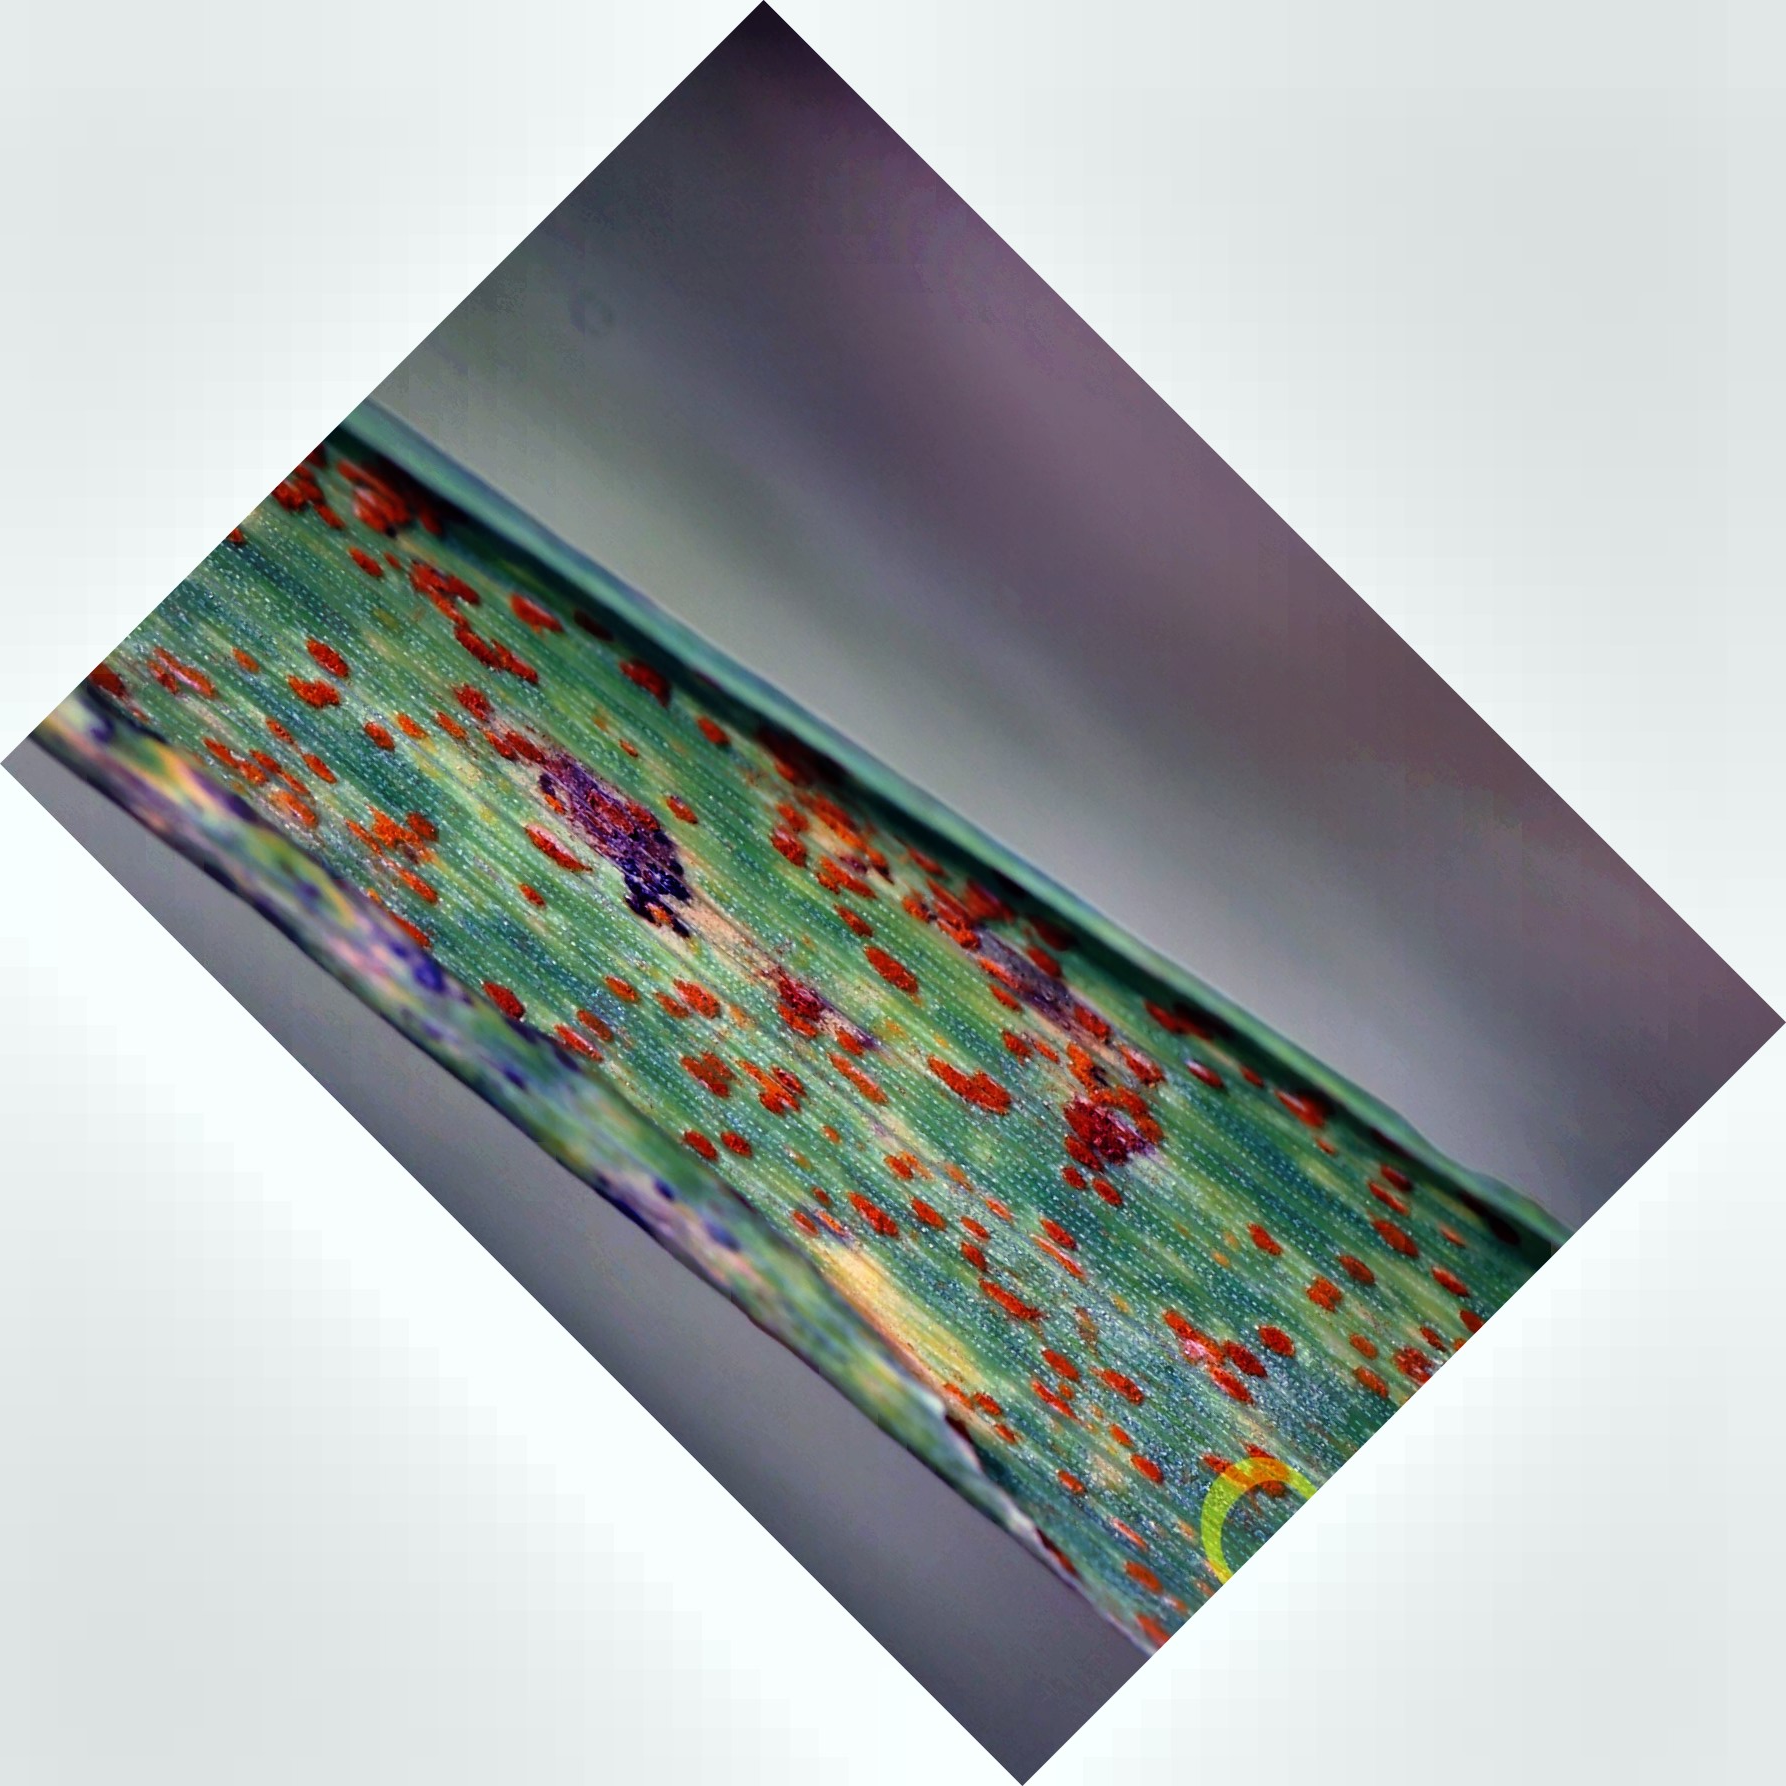Leaf Rust: (182, 584, 1258, 1449)
